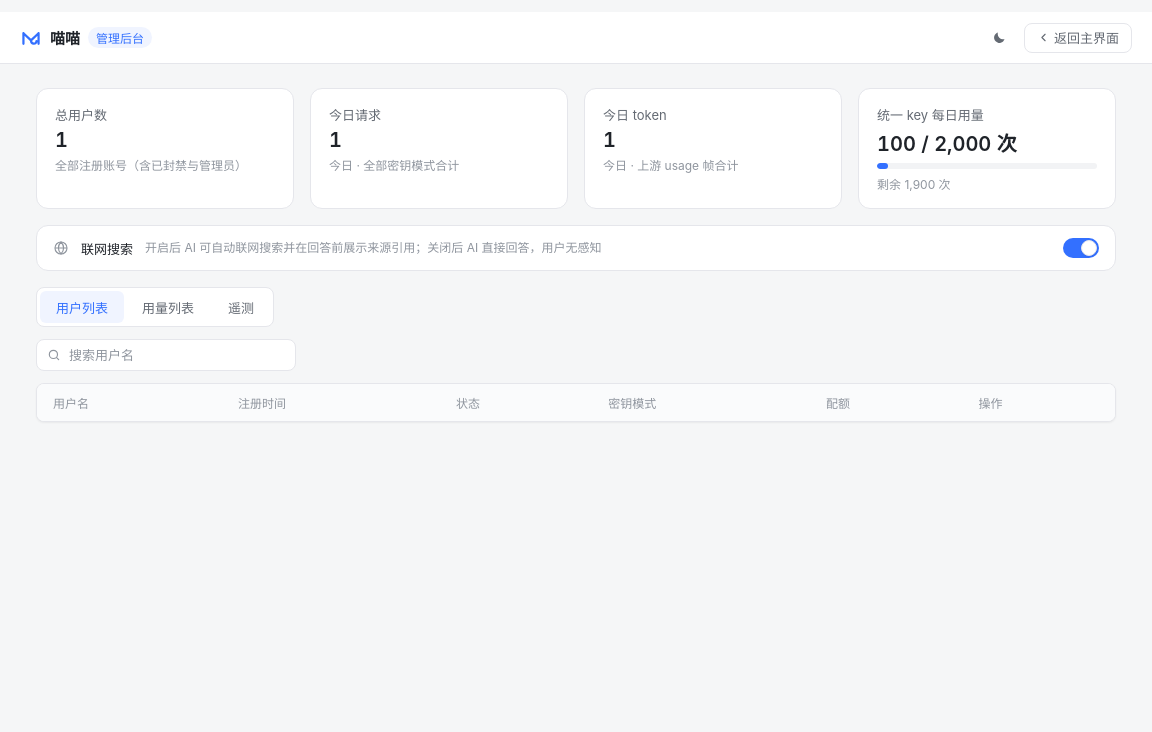
it: 正常态双大数值（走查条 36/37/38） › 次数列：label C11 + 大数值（含失败行）+ sub 模板「成功 N · 失败 N」+ title 注记
Click the radio button labelled "遥测". click: (241, 307)
box: [212,291,270,323]
(page scrolled)
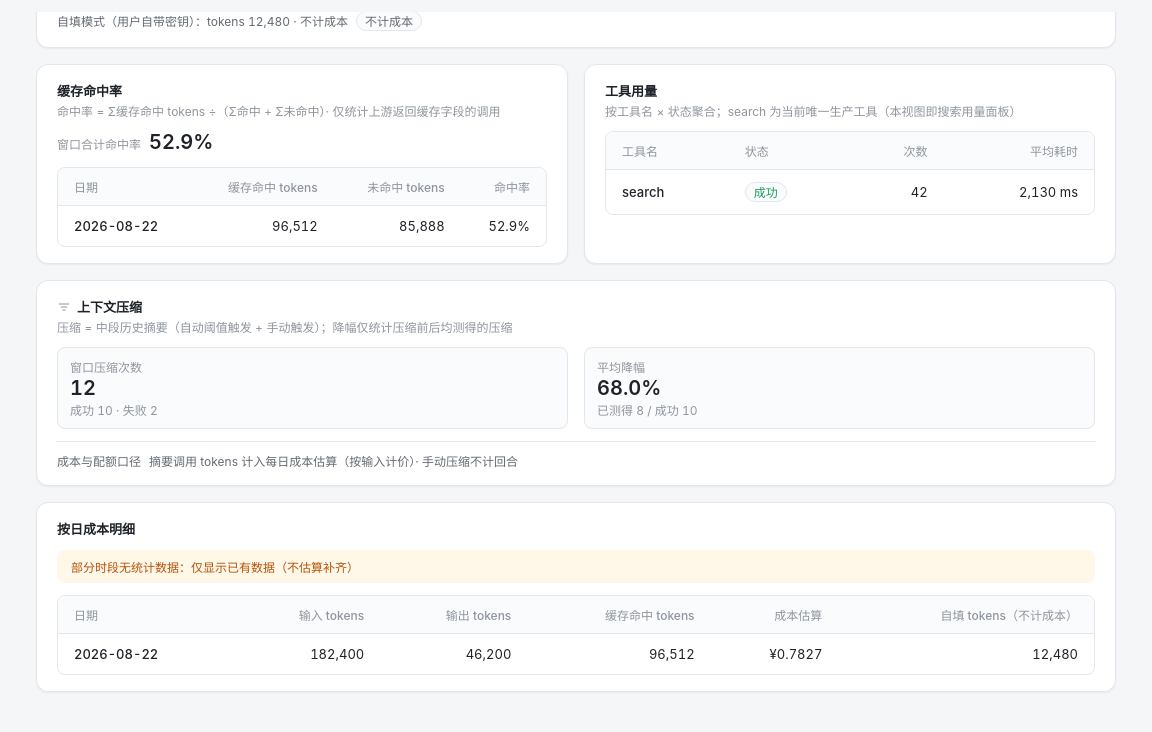
Expected: the text with class "bd-label" reads "窗口压缩次数", [70,360,142,375]
Expected: the text with class "tc-big" reads "12", [70,376,96,400]
Expected: the text with class "tc-big-sub" reads "成功 10 · 失败 2", [70,403,158,418]
